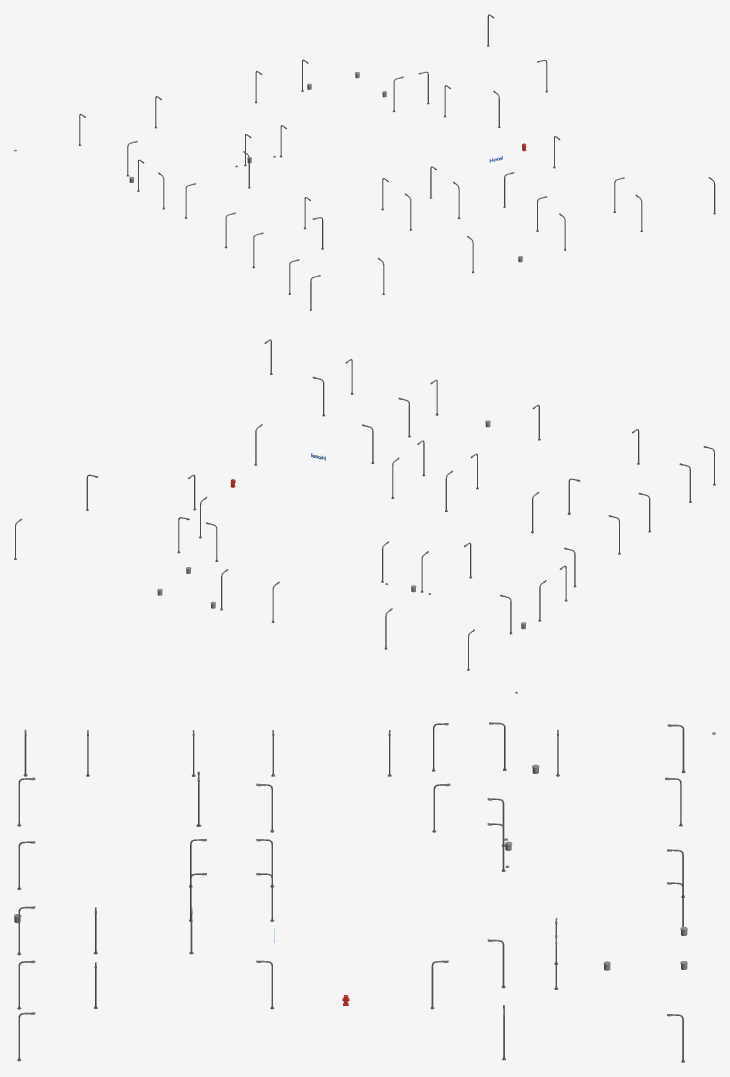
File: ligths.glb
The picture shows the model from 3 angles, top to bottom: view 1: azimuth 30°, elevation 25°; view 2: azimuth 150°, elevation 25°; view 3: azimuth 270°, elevation 25°; orthographic projection. The views are drawn at different scales.
Size of the model in its own units: 12.46 by 0.859 by 11.22.
